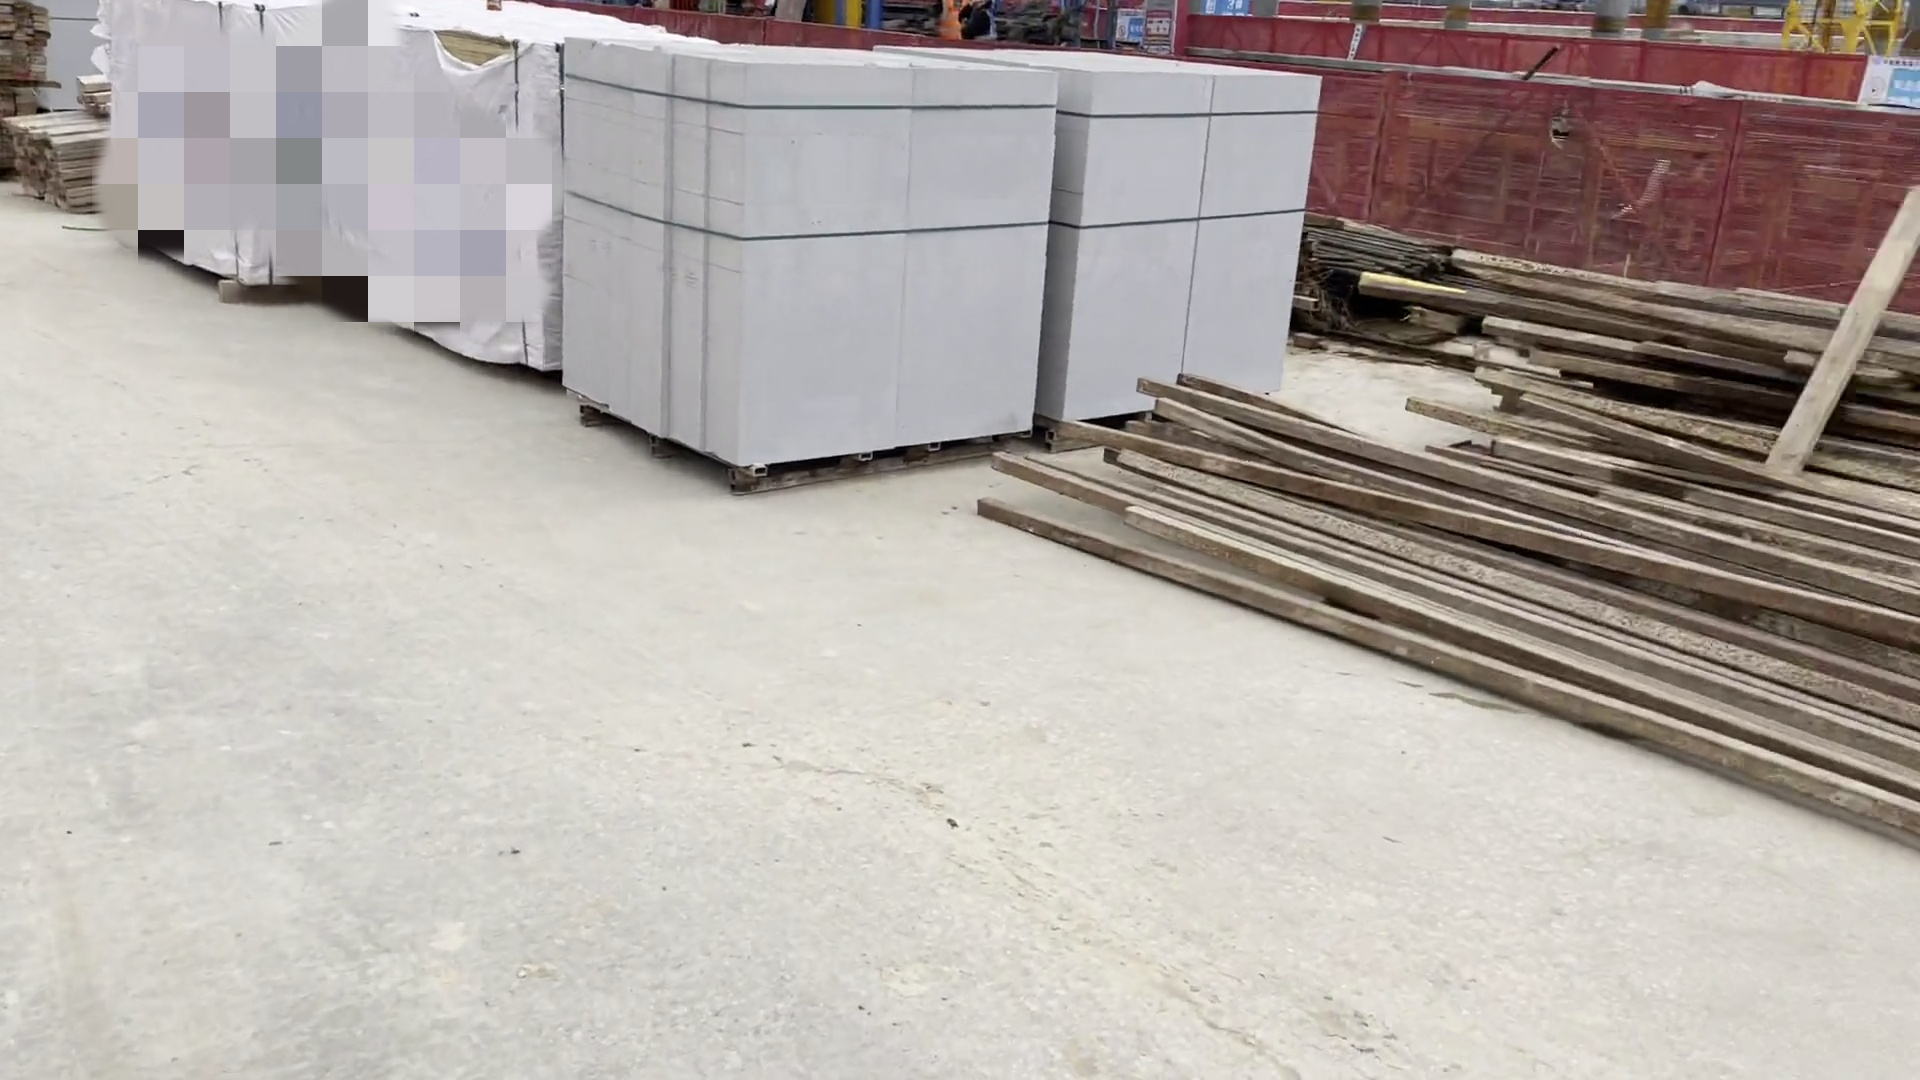brick: (545, 32, 1356, 464)
wood: (1175, 258, 1920, 832)
